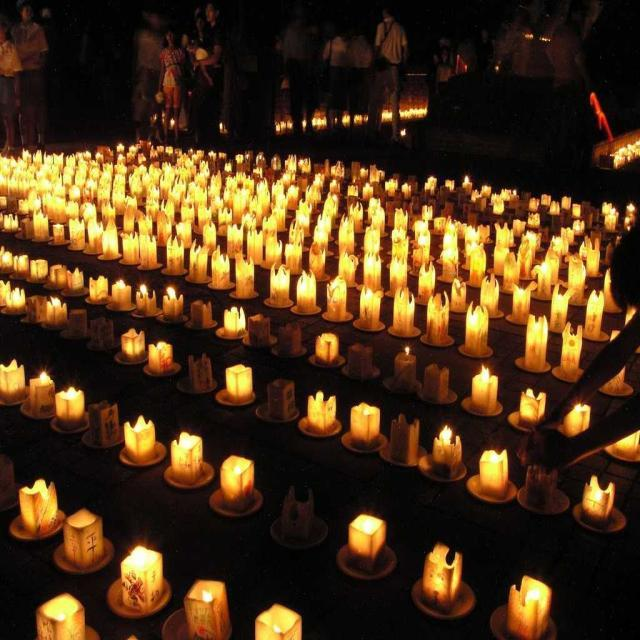Fire: (49, 156, 178, 220), (511, 299, 582, 358), (439, 215, 480, 260), (298, 203, 344, 234), (524, 576, 542, 605), (440, 418, 458, 443), (32, 362, 48, 386), (179, 431, 195, 451), (60, 388, 82, 400), (136, 546, 150, 564), (480, 363, 490, 385), (164, 286, 178, 298), (138, 279, 148, 292)
